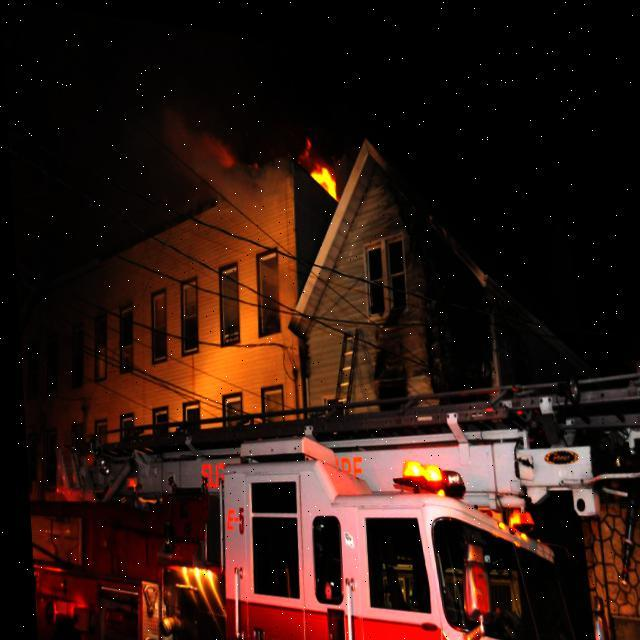Fire: (299, 125, 339, 188)
